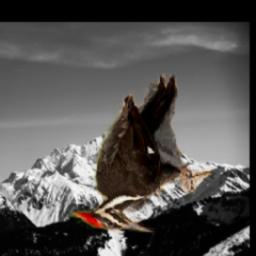Woodpecker: (70, 74, 211, 233)
